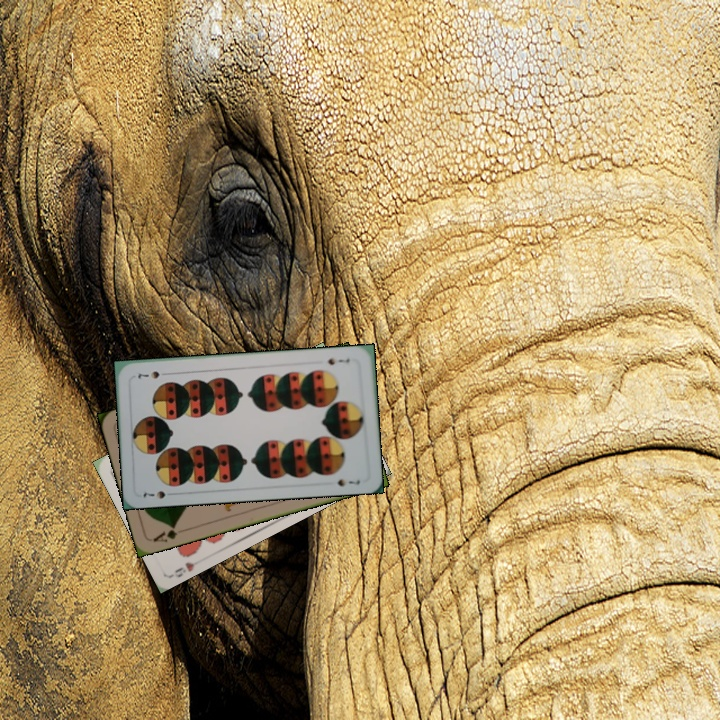GA: (149, 521, 180, 545)
H9: (171, 558, 197, 579)
S7: (139, 487, 178, 501), (324, 354, 352, 367)
